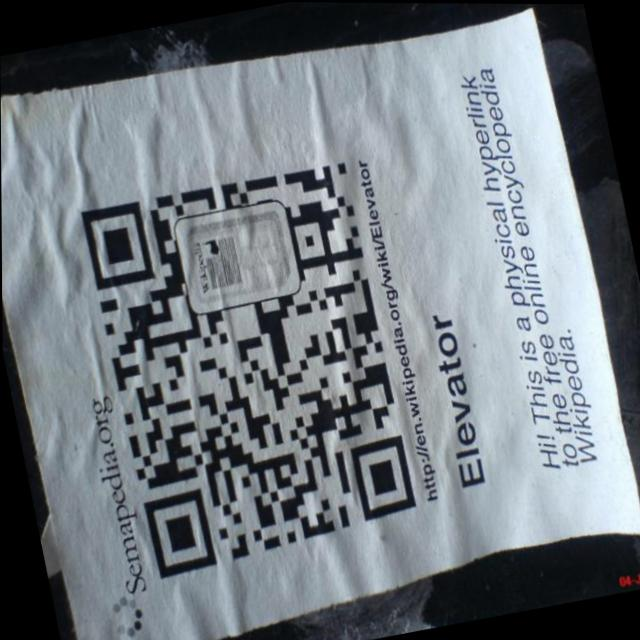qrcode: (82, 160, 420, 581)
